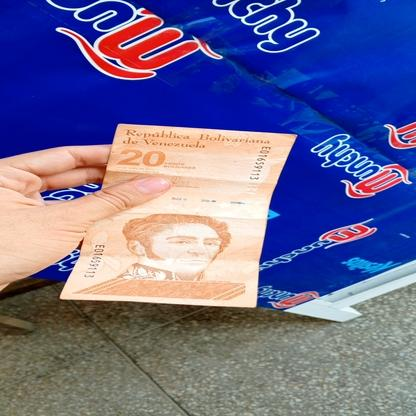twenty-front-vef: (56, 123, 298, 308)
